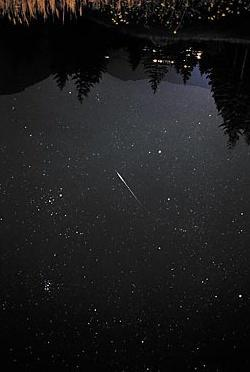meteorite: (113, 168, 131, 186)
